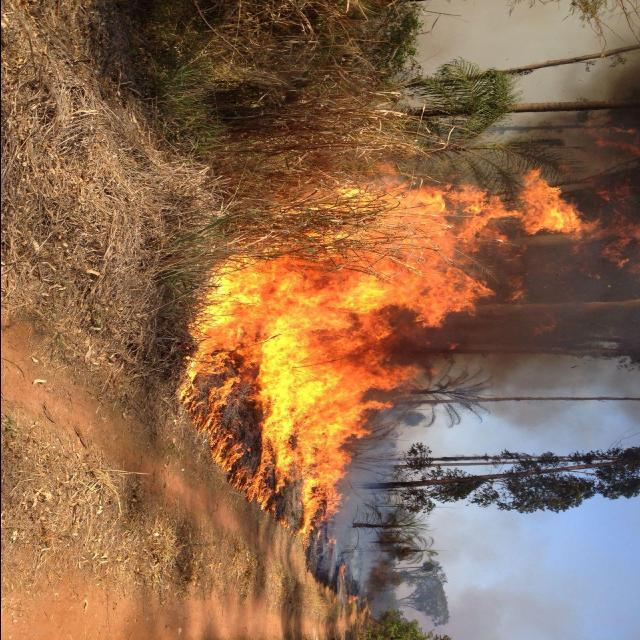Fire: (184, 167, 596, 556)
